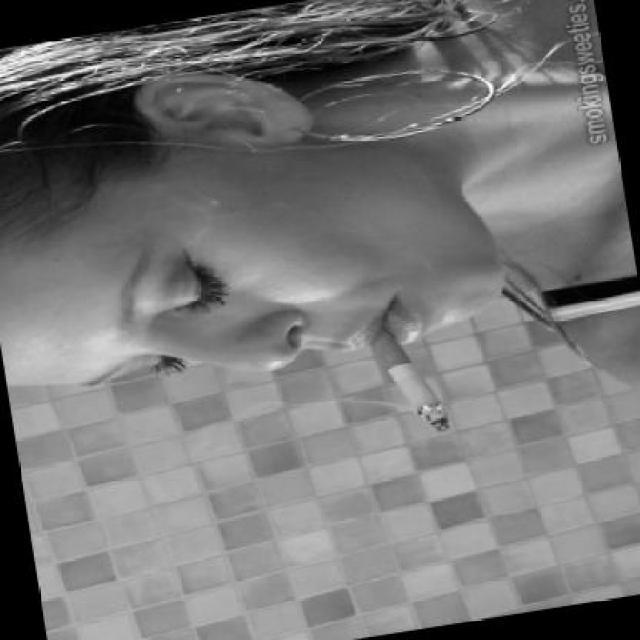smoke: (362, 316, 460, 441)
